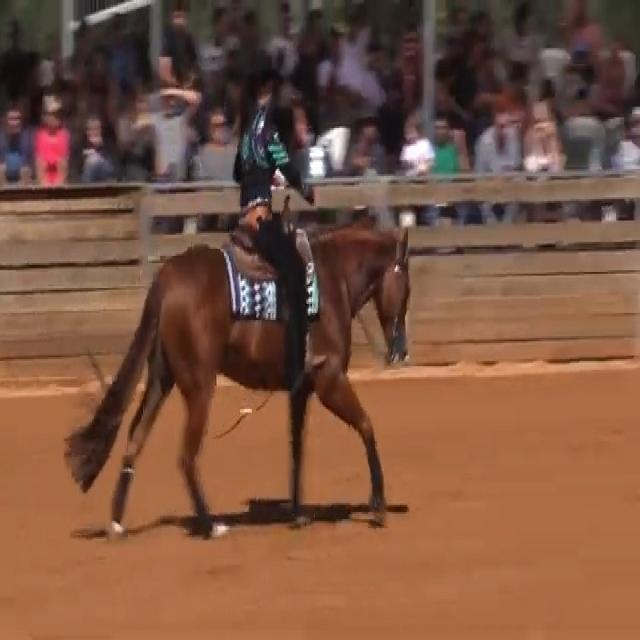horse: (63, 217, 413, 539)
